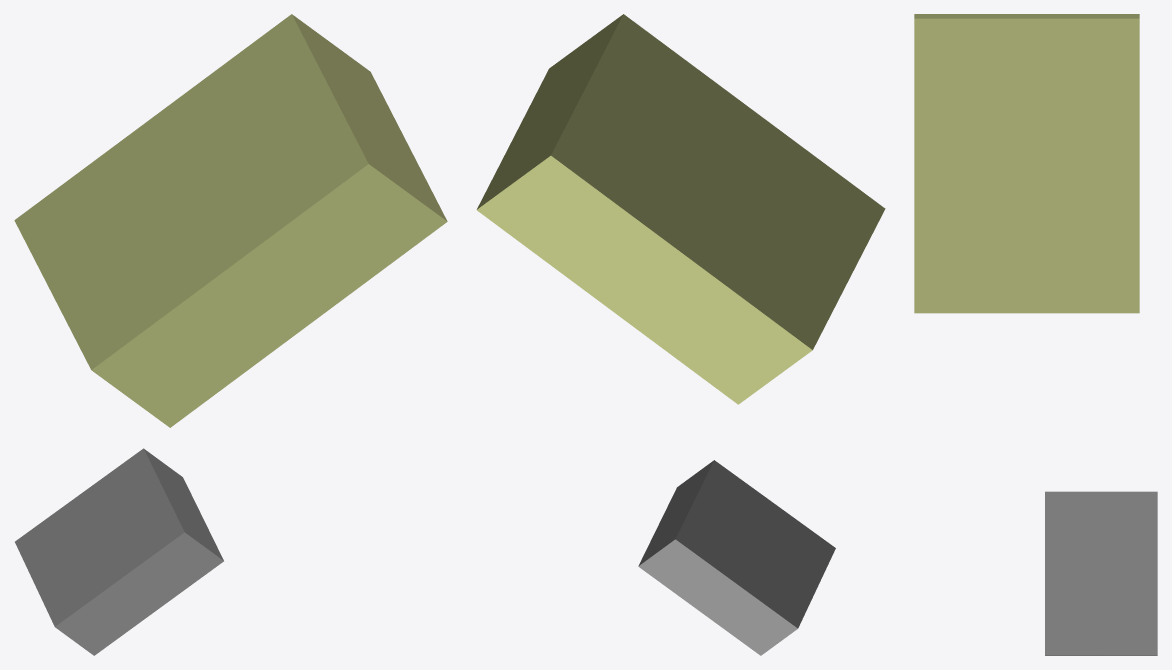
3 views of the same model, side by side, from view 1: azimuth 30°, elevation 25°; view 2: azimuth 150°, elevation 25°; view 3: azimuth 270°, elevation 25° (orthographic). The views are drawn at different scales.
Visible parts, largest first — view 1: 0_1_1_3_2_1_3_0_0; view 2: 0_1_1_3_2_1_3_0_0; view 3: 0_1_1_3_2_1_3_0_0.
Part boxes in pixels (x1=…): 0_1_1_3_2_1_3_0_0: x1=14, y1=14, x2=447, y2=655; 0_1_1_3_2_1_3_0_0: x1=476, y1=14, x2=885, y2=655; 0_1_1_3_2_1_3_0_0: x1=914, y1=14, x2=1157, y2=655.
Bounding box in the file's own units: 15.56 × 23.55 × 6.48.
